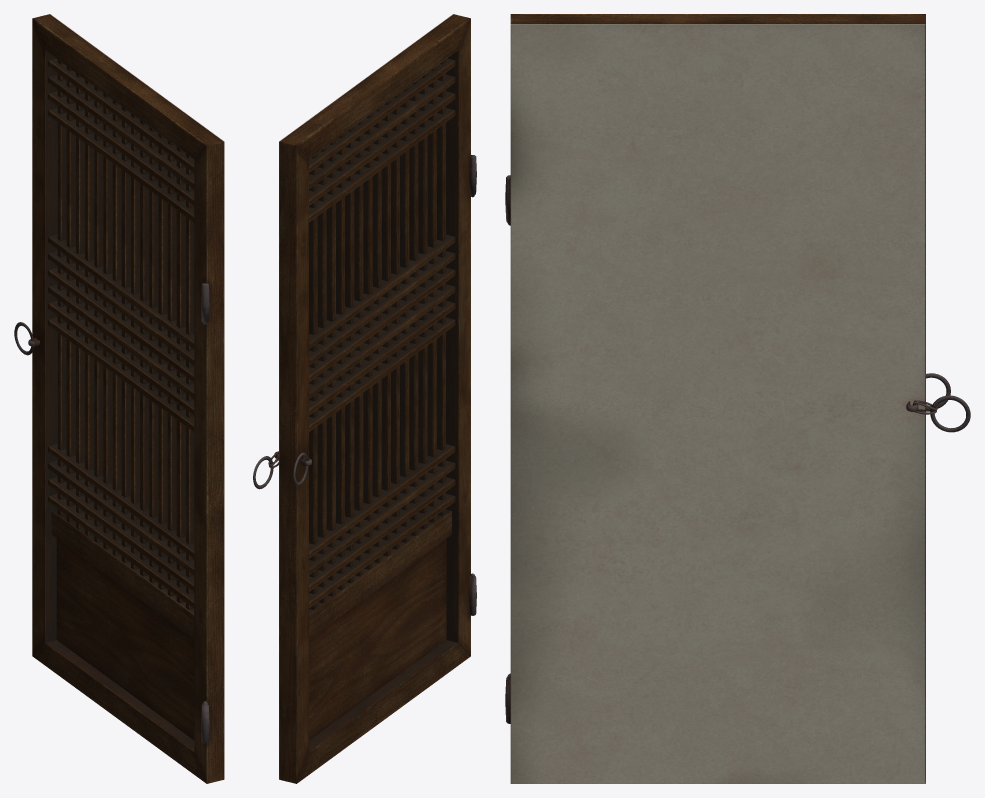
The model's file is SM_Door01c.fbx.
The picture shows the model from 3 angles, left to right: view 1: azimuth 30°, elevation 25°; view 2: azimuth 150°, elevation 25°; view 3: azimuth 270°, elevation 25°; orthographic projection. The views are drawn at different scales.
Parts seen in each view (by area): view 1: SM_Door01c; view 2: SM_Door01c; view 3: SM_Door01c.
Boxes of the visible parts, x1,y1,x2,y2 form: SM_Door01c: [14, 14, 224, 783]; SM_Door01c: [253, 14, 476, 783]; SM_Door01c: [505, 14, 970, 783].
Bounding box in the file's own units: 8.44 × 141 × 78.48.
1 material, 1 textured.
